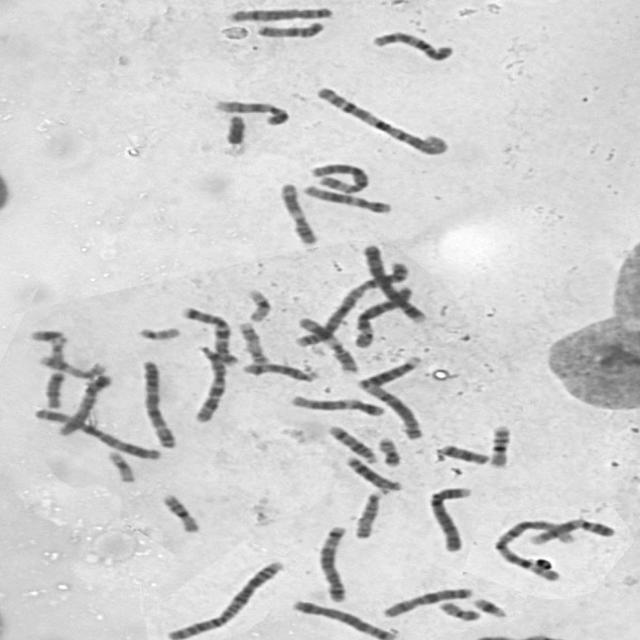A1: (310, 83, 452, 157), (489, 516, 578, 582)
A2: (291, 258, 413, 348), (162, 557, 288, 639)
A3: (29, 404, 164, 461), (135, 356, 181, 450)
B4: (357, 239, 430, 324), (423, 482, 475, 554)
B5: (287, 596, 400, 640), (314, 522, 351, 603)
C10: (56, 375, 119, 436), (367, 27, 459, 63)
C11: (293, 314, 360, 374), (275, 180, 320, 245)
C12: (300, 181, 395, 215), (286, 391, 387, 418)
C6: (349, 281, 418, 350), (305, 160, 371, 194)
C7: (178, 303, 240, 368), (190, 341, 232, 424)
C8: (357, 381, 427, 442), (224, 3, 336, 23)
C9: (524, 514, 618, 546), (208, 96, 292, 127)
D13: (354, 353, 425, 390), (341, 452, 405, 492)
D14: (323, 422, 380, 464), (238, 359, 321, 384)
D15: (350, 485, 391, 541), (252, 18, 327, 39)
E16: (157, 490, 202, 534), (485, 422, 514, 469)
E17: (34, 351, 109, 380), (234, 319, 272, 365)
E18: (434, 441, 492, 465), (40, 369, 68, 409)
F19: (102, 446, 138, 484), (241, 286, 275, 323)
F20: (435, 598, 483, 622), (374, 434, 404, 468)
G21: (468, 594, 510, 619), (24, 326, 70, 346)
G22: (132, 323, 184, 342), (44, 339, 70, 365)
X: (379, 584, 476, 619)
Y: (220, 112, 249, 146)
